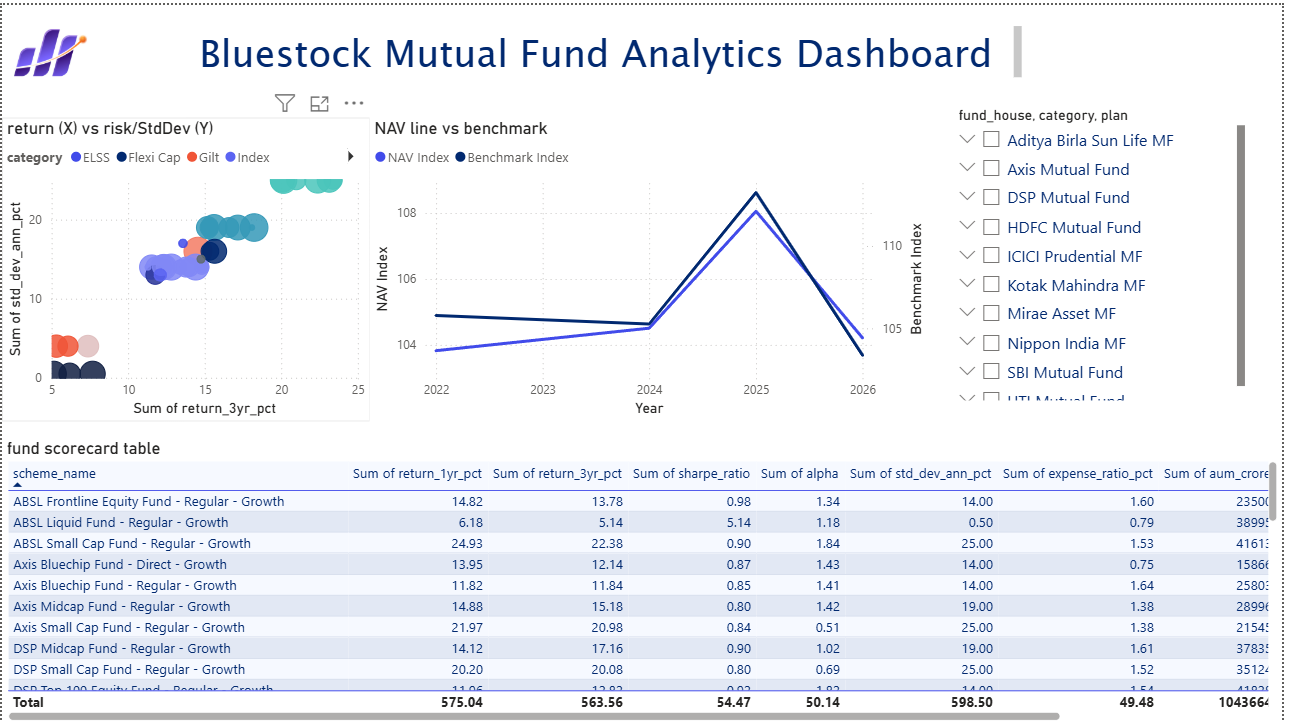

Layout of this report page (visuals, bound fields, positions):
{"tool":"powerbi","page":{"name":"Fund Performance","canvas":[1280,720],"ordinal":1},"visuals":[{"type":"scatterChart","title":"return (X) vs risk/StdDev (Y)","fields":{"X":["Sum(07_scheme_performance.return_3yr_pct)"],"Y":["Sum(07_scheme_performance.std_dev_ann_pct)"],"Size":["Sum(07_scheme_performance.aum_crore)"],"Series":["07_scheme_performance.category"],"Category":["07_scheme_performance.scheme_name"]},"box":[0,112,368,304],"z":0},{"type":"tableEx","title":"fund scorecard table","fields":{"Values":["07_scheme_performance.scheme_name","Sum(07_scheme_performance.return_1yr_pct)","Sum(07_scheme_performance.return_3yr_pct)","Sum(07_scheme_performance.sharpe_ratio)","Sum(07_scheme_performance.alpha)","Sum(07_scheme_performance.std_dev_ann_pct)","Sum(07_scheme_performance.expense_ratio_pct)","Sum(07_scheme_performance.aum_crore)","Sum(07_scheme_performance.morningstar_rating)","01_fund_master.amfi_code"]},"box":[0,432,1280,288],"z":1000},{"type":"lineChart","title":" NAV line vs benchmark","fields":{"Category":["DateTable.Date.Variation.Date Hierarchy.Year","DateTable.Date.Variation.Date Hierarchy.Quarter","DateTable.Date.Variation.Date Hierarchy.Month","DateTable.Date.Variation.Date Hierarchy.Day"],"Y":["02_nav_history.NAV Index"],"Y2":["10_benchmark_indices.Benchmark Index"]},"box":[368,112,560,304],"z":2000},{"type":"slicer","fields":{"Values":["01_fund_master.fund_house","01_fund_master.category","01_fund_master.plan"]},"box":[944,96,304,304],"z":3000},{"type":"textbox","box":[192,16,832,64],"z":4001},{"type":"image","box":[0,0,96,96],"z":4002}]}

Visuals, with their boxes in screenshot pixels (x1, y1, x2, y2), scaled from the page's 1280x720 canvas onto the 1292x722 screenshot:
"return (X) vs risk/StdDev (Y)" scatterChart: rect(0, 112, 371, 417)
"fund scorecard table" tableEx: rect(0, 433, 1291, 721)
" NAV line vs benchmark" lineChart: rect(371, 112, 937, 417)
slicer - 01_fund_master.fund_house x 01_fund_master.category: rect(953, 96, 1260, 401)
textbox: rect(194, 16, 1034, 80)
image: rect(0, 0, 97, 96)
